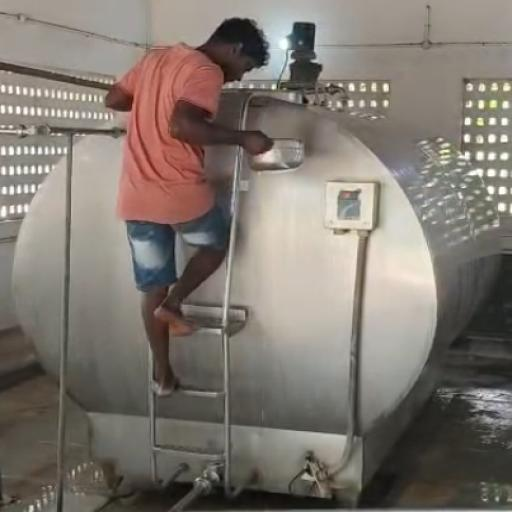silo: (7, 86, 501, 494)
vessel: (246, 138, 304, 171)
